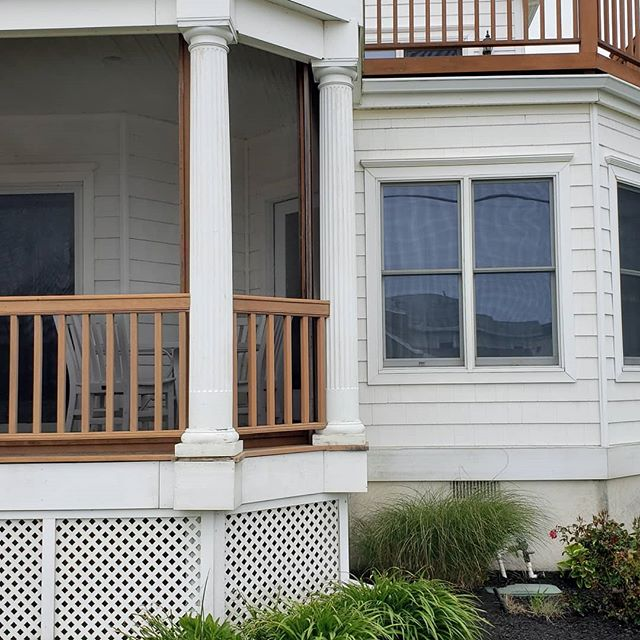building: (1, 1, 621, 563)
window: (372, 166, 559, 369)
